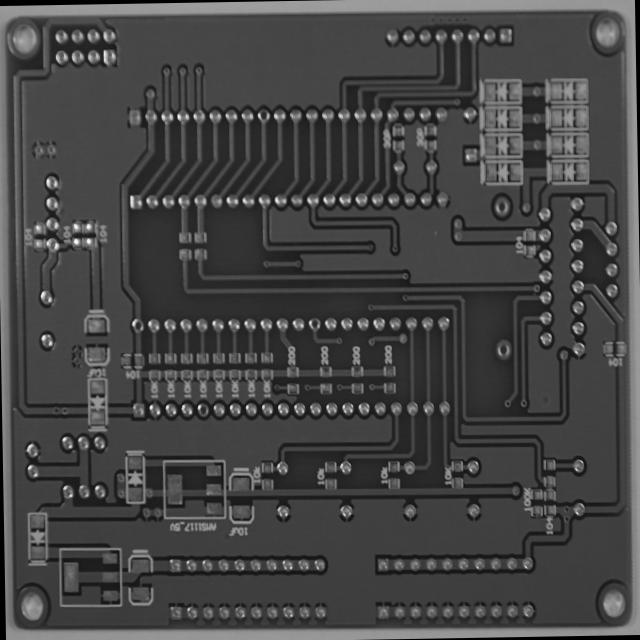missing_hole: (306, 314, 322, 334), (254, 106, 272, 123), (496, 338, 510, 359), (196, 399, 210, 419), (494, 196, 508, 216), (130, 316, 144, 334)
